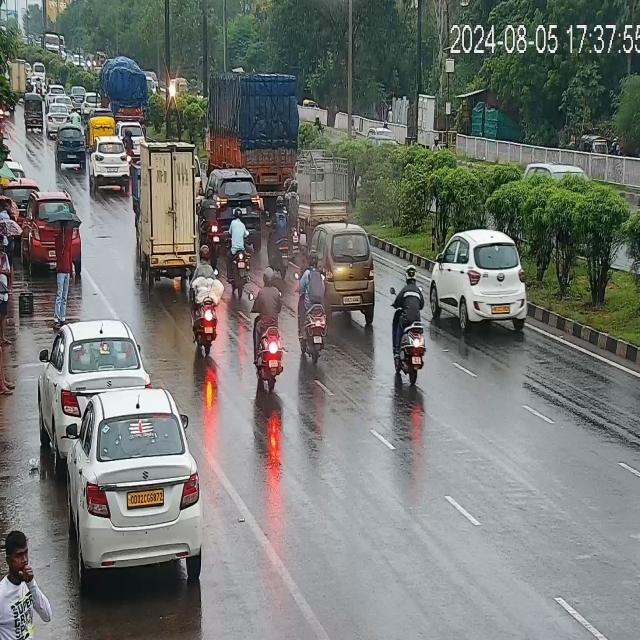2-wheelers: (392, 271, 436, 383), (252, 270, 286, 392), (297, 242, 329, 368), (193, 245, 220, 354), (224, 206, 254, 301), (268, 191, 292, 285), (198, 181, 222, 272)
auto: (24, 91, 46, 136), (89, 114, 119, 144), (24, 90, 45, 132)
car: (66, 385, 202, 571), (42, 319, 143, 431), (428, 224, 536, 326), (300, 218, 378, 318), (202, 161, 264, 251), (21, 194, 80, 280), (88, 146, 132, 196), (56, 122, 88, 170), (44, 95, 72, 134)
pedestrian: (0, 524, 55, 638), (55, 215, 76, 309), (0, 297, 17, 398), (0, 195, 12, 265)
truck: (203, 61, 300, 197), (130, 128, 206, 294), (102, 51, 147, 123)
